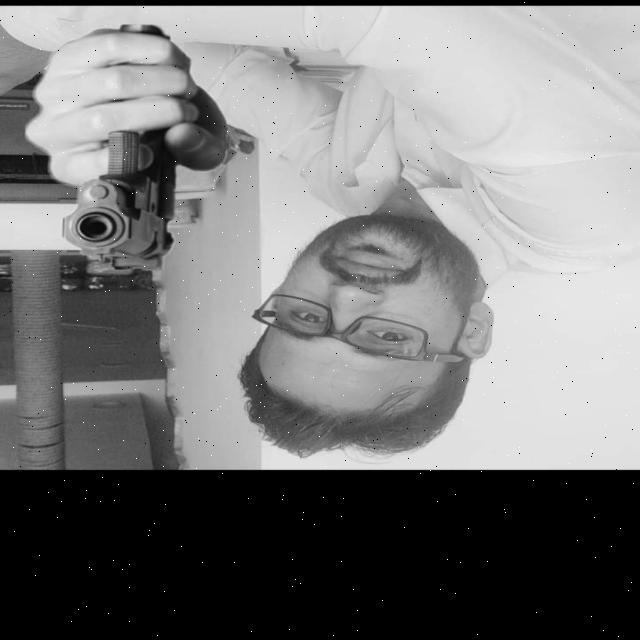gun: (18, 22, 241, 276)
